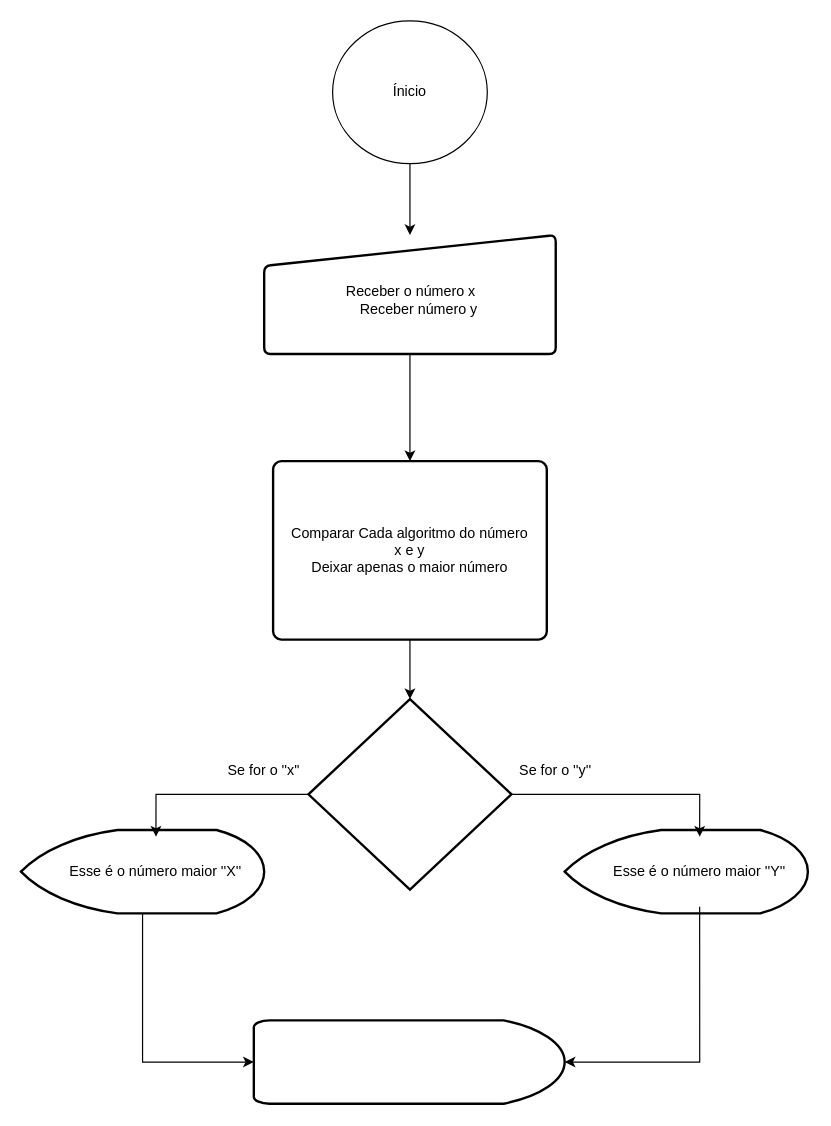
Image size: 831x1126. Some labels were removed from this diagram. Each missing label, with the centre of its shape:
"Fim" goes at (x=408, y=1061).
"Qual é o maior?" goes at (x=409, y=793).
